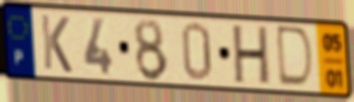0: (179, 20, 214, 84)
4: (82, 16, 116, 78)
8: (132, 16, 170, 82)
D: (276, 23, 317, 92)
H: (231, 24, 271, 88)
K: (38, 12, 74, 76)
